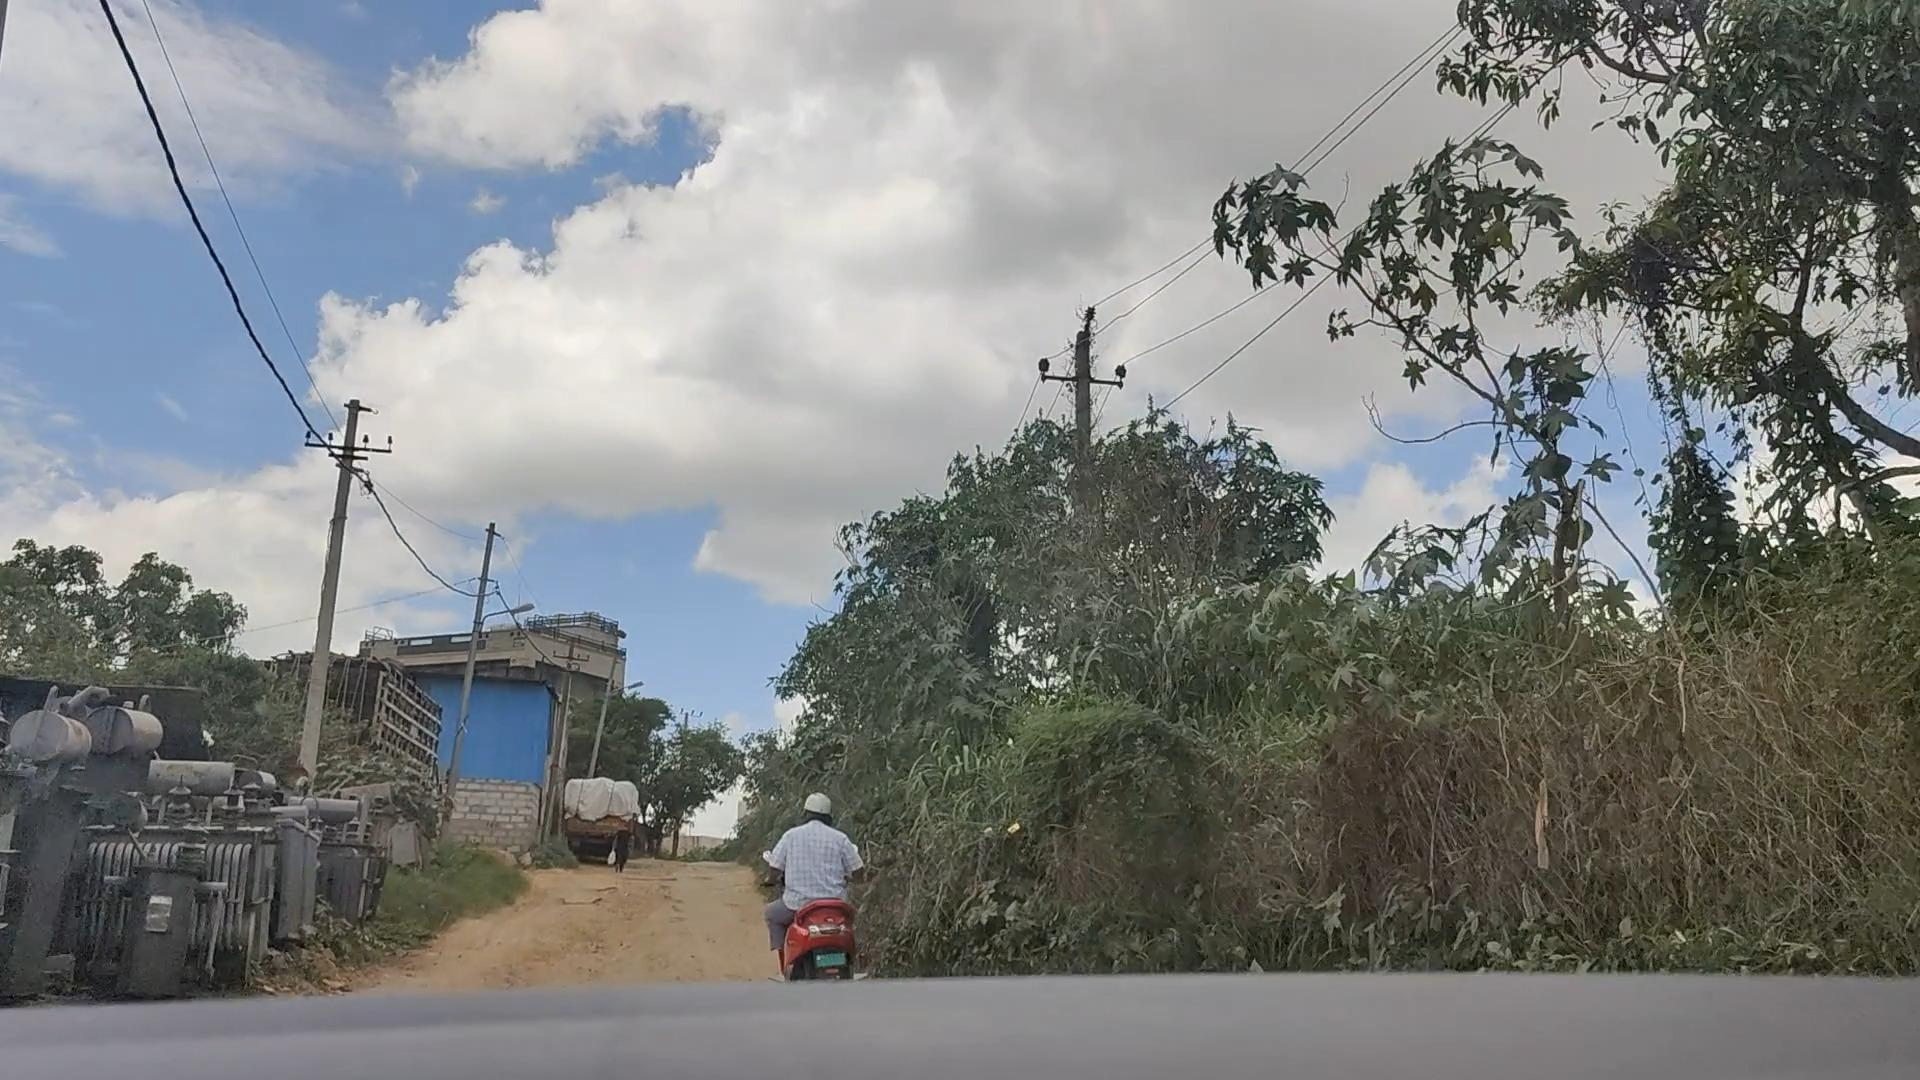HMV: (556, 754, 657, 873)
LMV: (764, 746, 889, 992)
UnsurfacedRoad: (467, 872, 746, 992)
